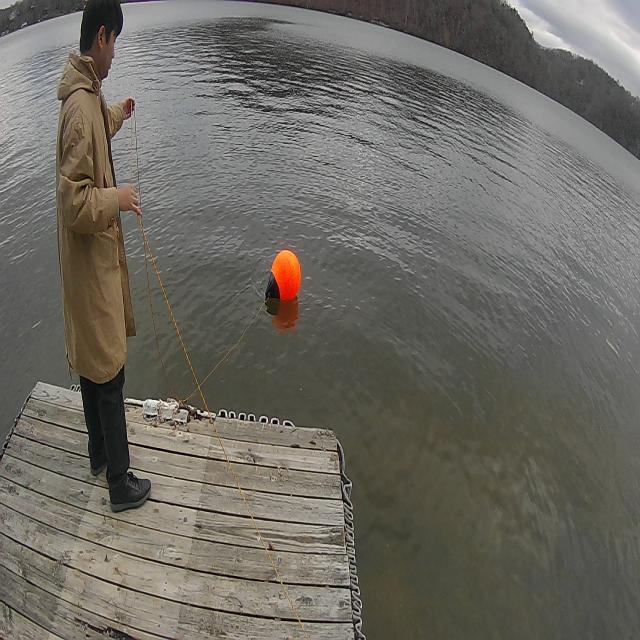Buoy: (263, 245, 306, 314)
